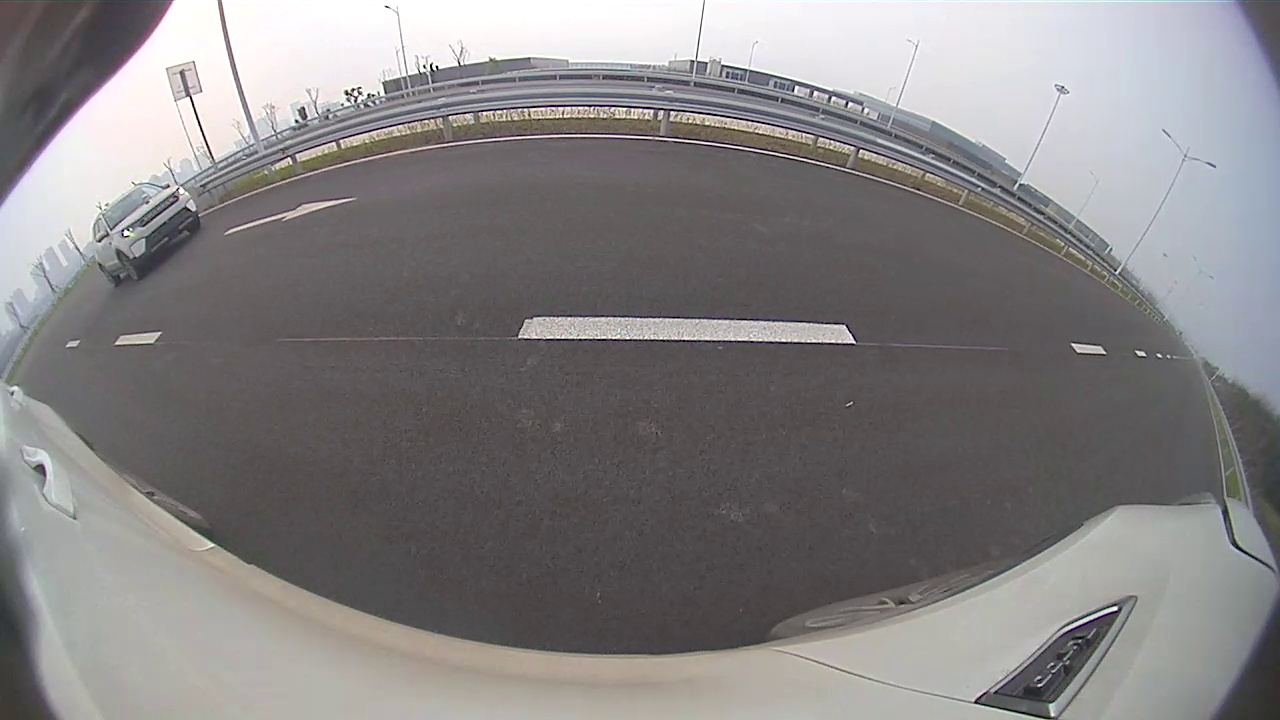car: (388, 149, 523, 244)
front: (506, 182, 523, 211)
rear: (465, 190, 489, 227)
